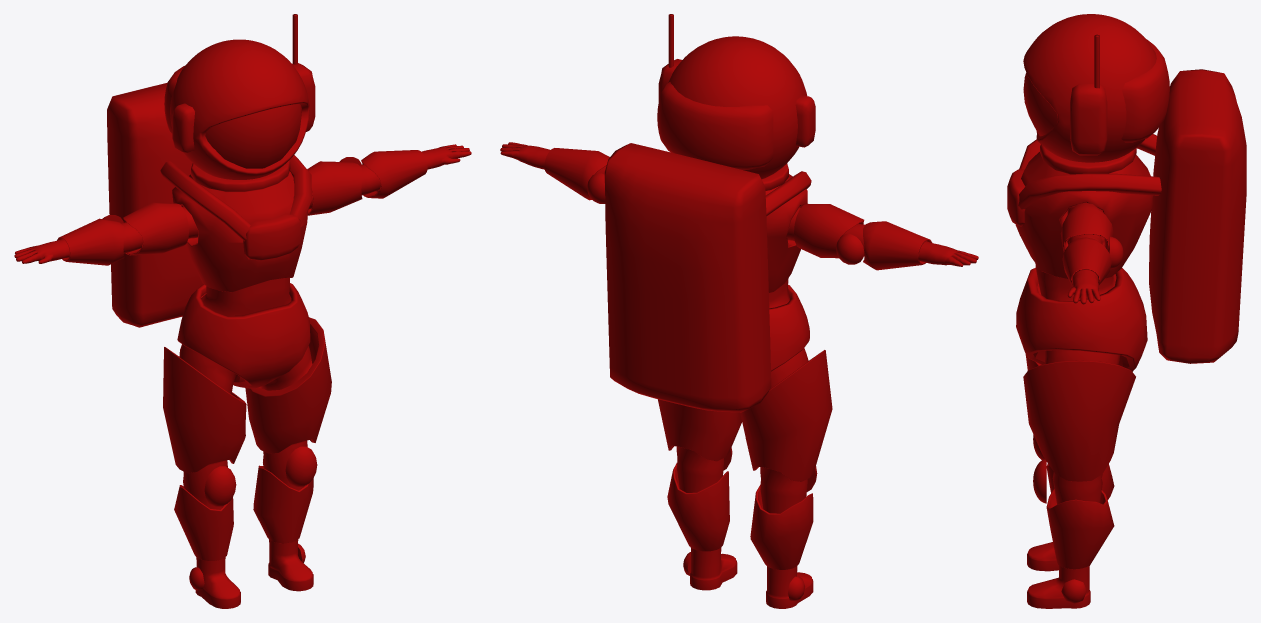
File: SM_astronaut_test.fbx
3 views of the same model, side by side, from view 1: azimuth 30°, elevation 25°; view 2: azimuth 150°, elevation 25°; view 3: azimuth 270°, elevation 25° (orthographic). The views are drawn at different scales.
Visible parts, largest first — view 1: astronaut; view 2: astronaut; view 3: astronaut.
Part boxes in pixels (x1,y1,x2,y2): astronaut: (14, 14, 471, 608); astronaut: (500, 14, 978, 608); astronaut: (1007, 14, 1246, 608).
Size of the model in its own units: 133 by 153 by 57.38.
